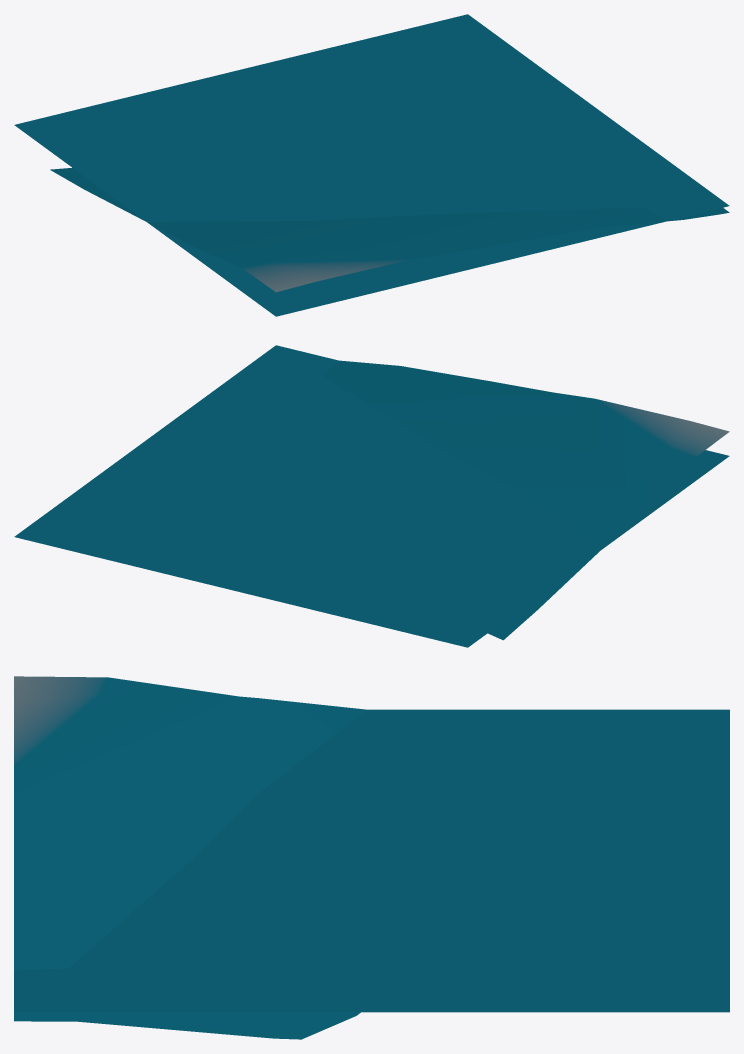
3 views of the same model, one above another, from view 1: azimuth 30°, elevation 25°; view 2: azimuth 150°, elevation 25°; view 3: azimuth 270°, elevation 25° (orthographic). The views are drawn at different scales.
Parts seen in each view (by area): view 1: G:\FFXIV-MapTools\exports\s1f3\bg\ffxiv\sea_s1\fld\s1f3\bgpl (×2); view 2: G:\FFXIV-MapTools\exports\s1f3\bg\ffxiv\sea_s1\fld\s1f3\bgpl (×2); view 3: G:\FFXIV-MapTools\exports\s1f3\bg\ffxiv\sea_s1\fld\s1f3\bgpl (×2).
Boxes of the visible parts, box(x1,y1,x2,y2) form: G:\FFXIV-MapTools\exports\s1f3\bg\ffxiv\sea_s1\fld\s1f3\bgpl (×2): box(14, 14, 729, 316); G:\FFXIV-MapTools\exports\s1f3\bg\ffxiv\sea_s1\fld\s1f3\bgpl (×2): box(14, 345, 729, 647); G:\FFXIV-MapTools\exports\s1f3\bg\ffxiv\sea_s1\fld\s1f3\bgpl (×2): box(14, 676, 729, 1039).
Size of the model in its own units: 128 by 12.74 by 128.
